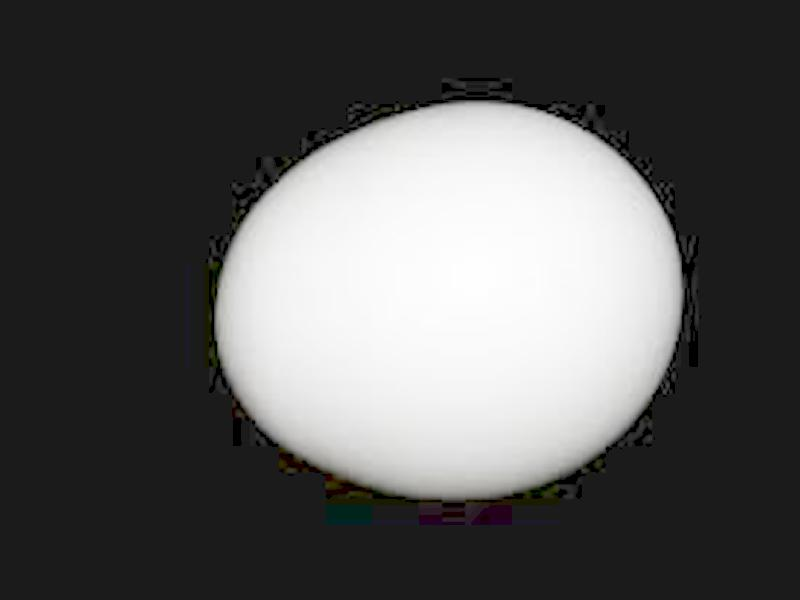Eggs: (221, 105, 684, 489)
